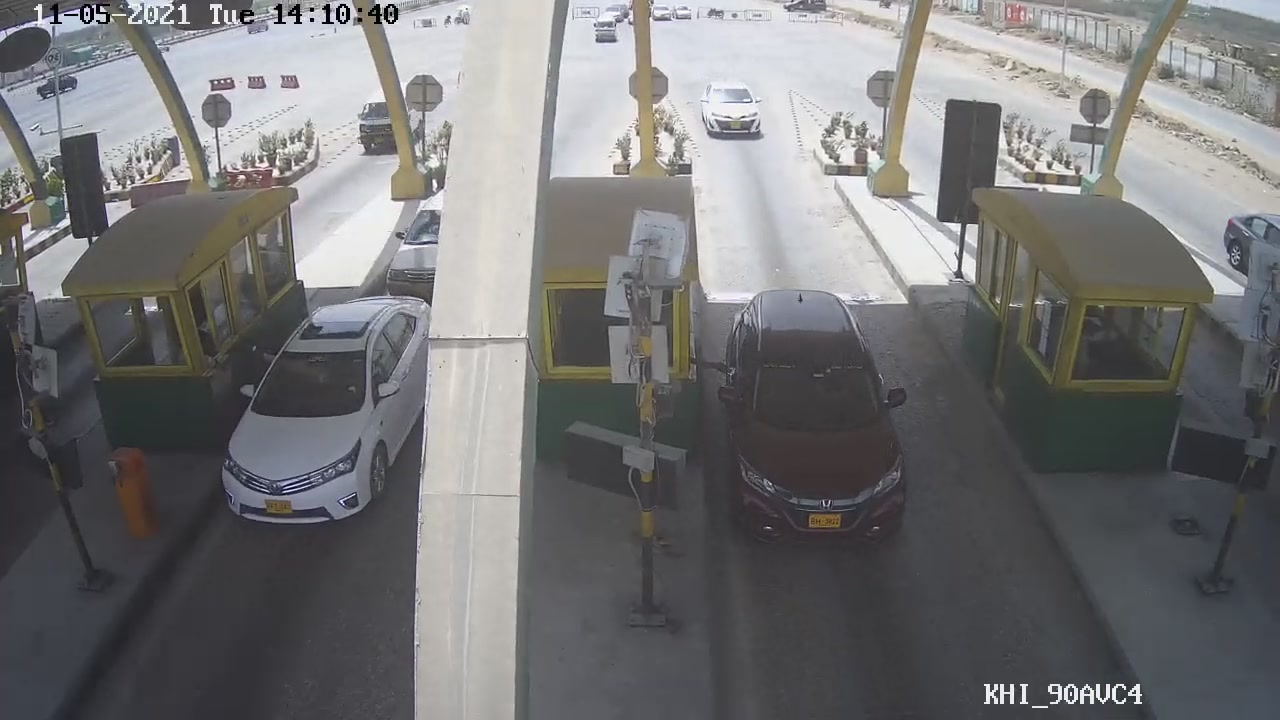F1: (706, 288, 920, 554)
